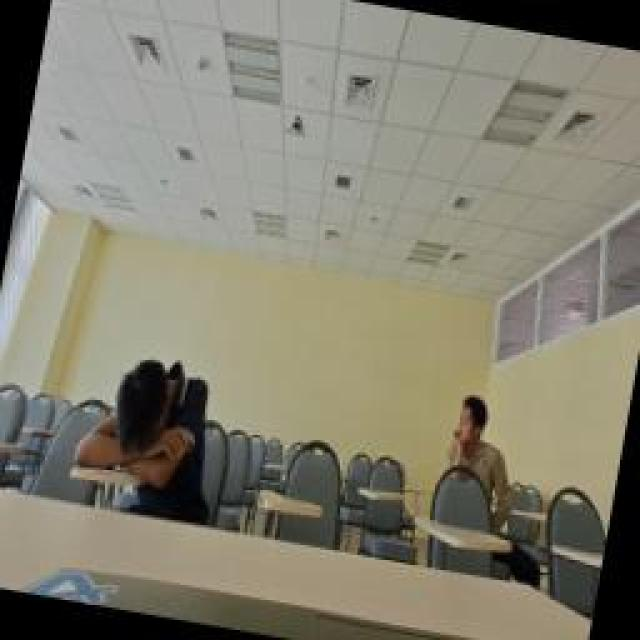sleep: (60, 342, 230, 528)
study: (430, 392, 532, 542)
